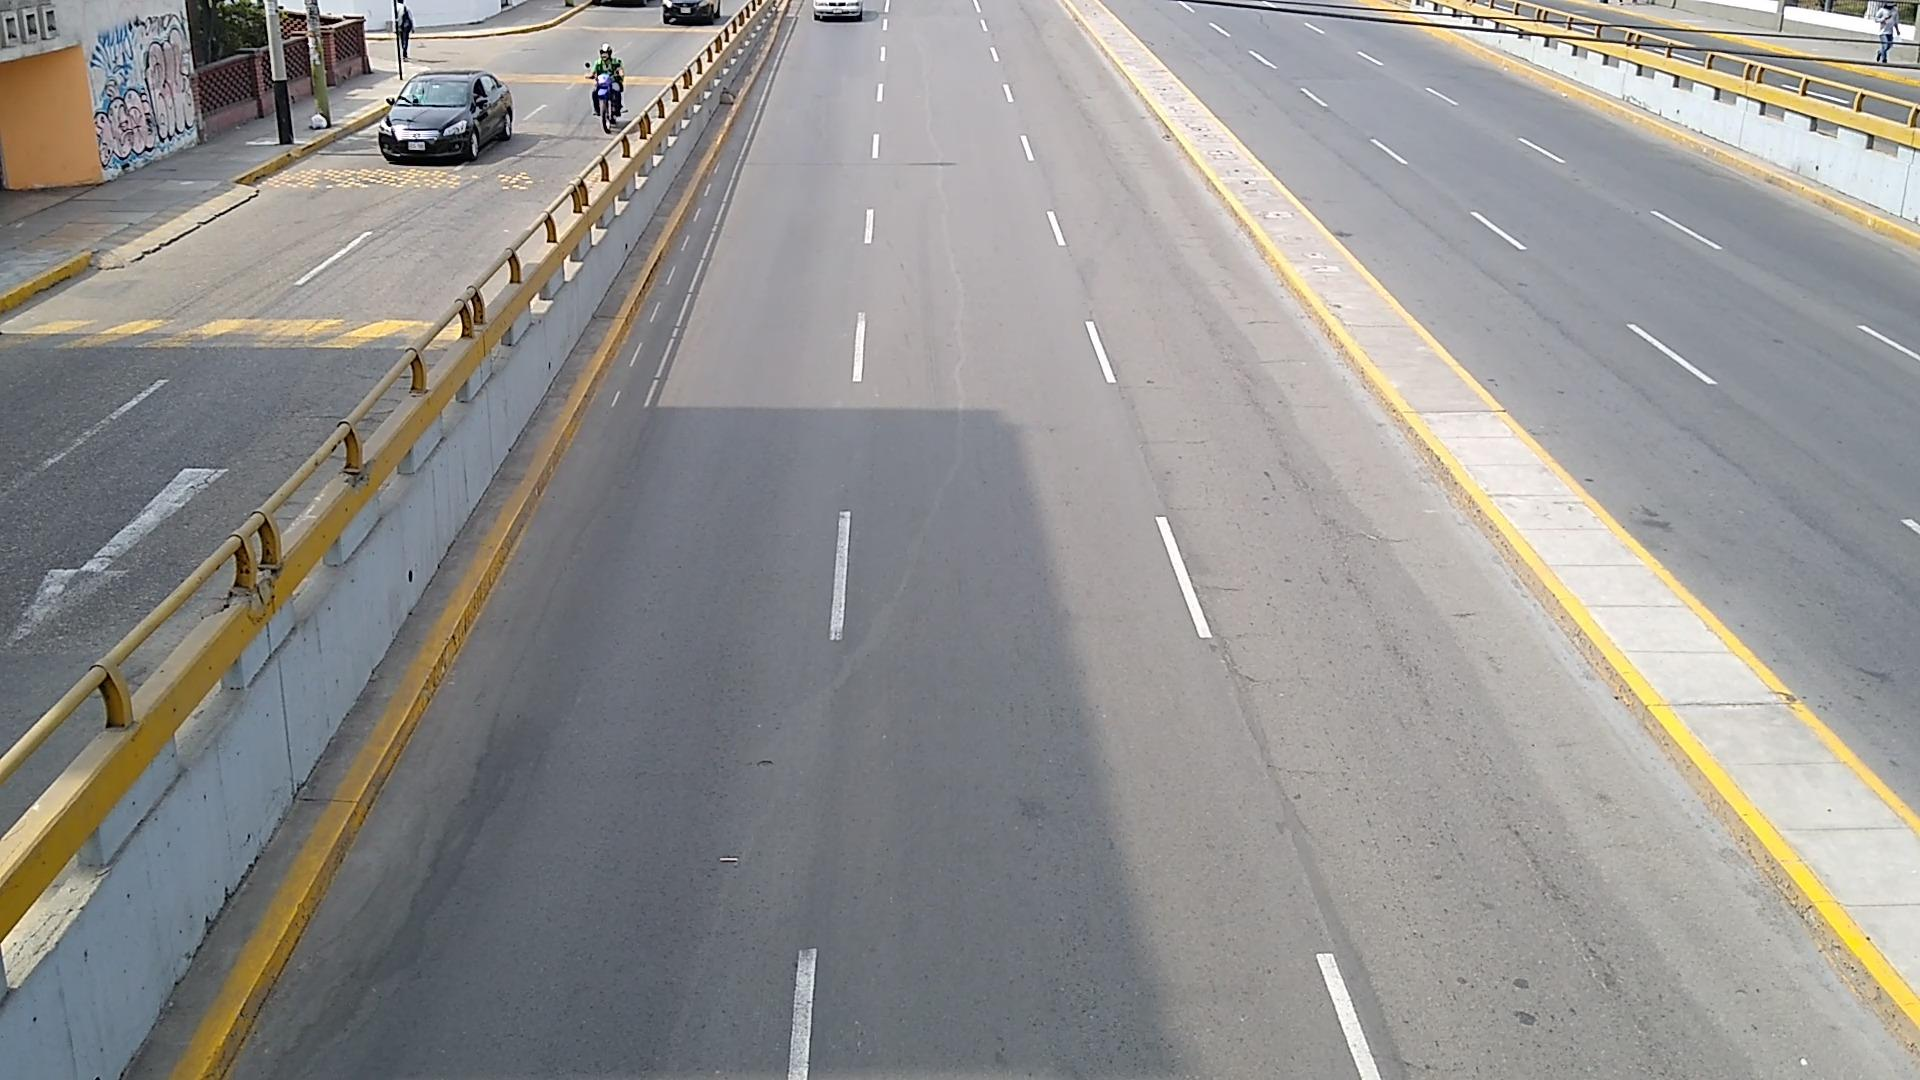car: (375, 71, 514, 165)
